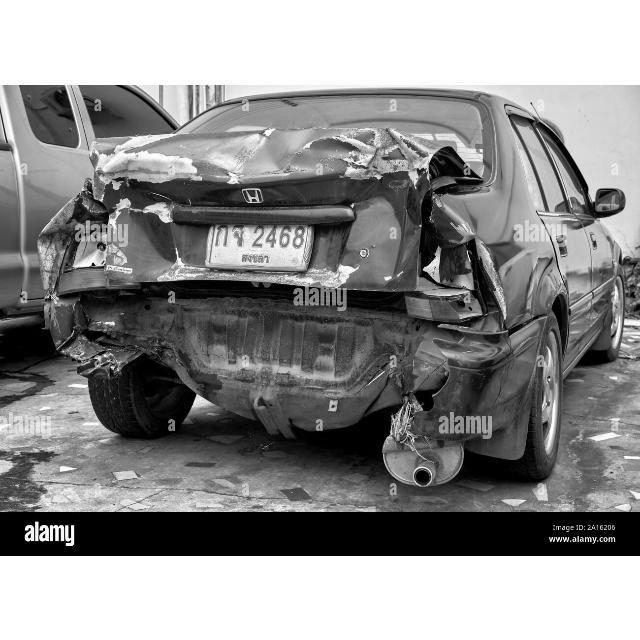Taillight-Damage: (53, 301, 493, 456), (408, 240, 490, 322), (52, 221, 110, 306)
boot-dent: (100, 134, 447, 295)
